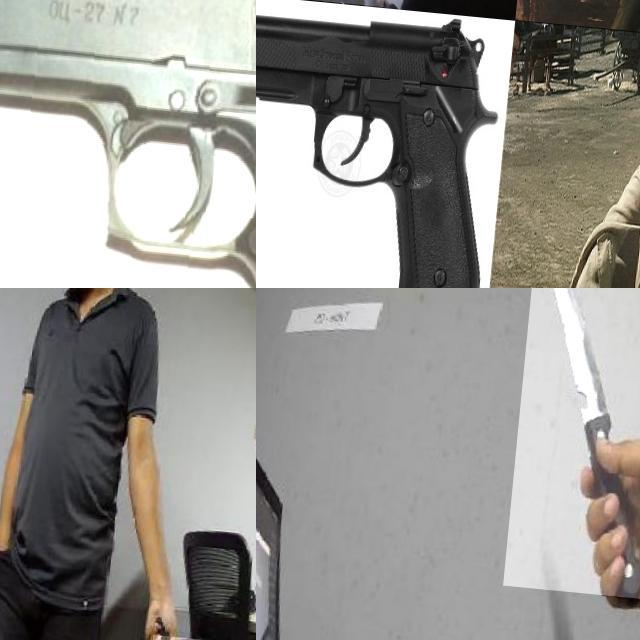-: (510, 288, 640, 592)
gun-knife-thesis - v11 Yolov5 augmented: (256, 0, 515, 288), (0, 0, 256, 288), (317, 0, 398, 59)
